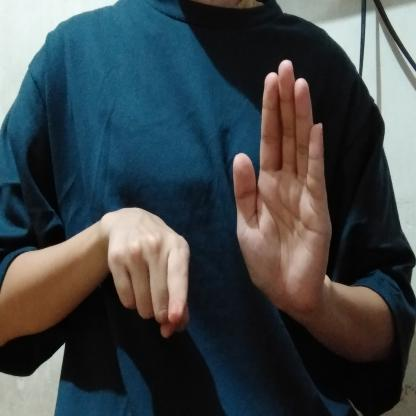stop: (101, 56, 340, 356)
